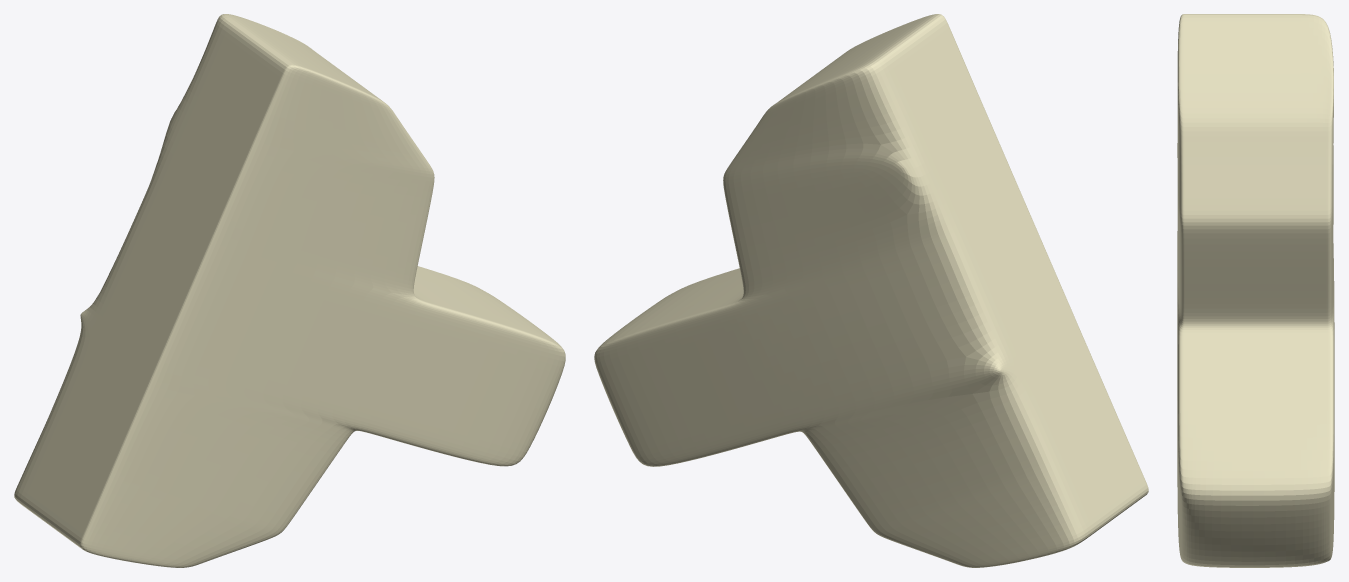
The model's file is Lighthouse-model-switch_nob.glb.
3 renders of one model, left to right at view 1: azimuth 30°, elevation 25°; view 2: azimuth 150°, elevation 25°; view 3: azimuth 270°, elevation 25°, orthographic. The views are drawn at different scales.
Visible parts, largest first — view 1: Cube; view 2: Cube; view 3: Cube.
Part boxes in pixels (box(x1,y1,x2,y2)): Cube: box(14, 14, 565, 567); Cube: box(594, 14, 1148, 567); Cube: box(1177, 14, 1334, 567).
Size of the model in its own units: 0.4045 by 0.3754 by 0.1157.
